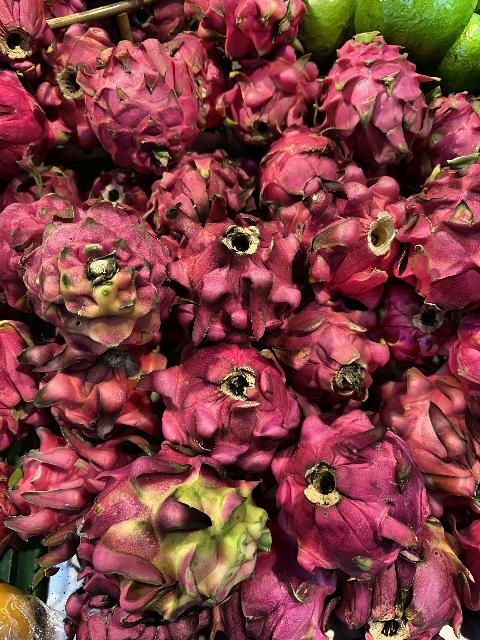buah-naga-belum-matang: (71, 451, 275, 599), (5, 196, 170, 340), (386, 371, 480, 525), (335, 534, 463, 640), (142, 157, 256, 229)
buah-naga-matang: (266, 422, 424, 560), (153, 208, 299, 352), (20, 327, 162, 449), (67, 38, 209, 156), (280, 178, 410, 306), (158, 357, 292, 461), (326, 33, 428, 169), (276, 292, 390, 408), (0, 438, 116, 542), (400, 169, 480, 315), (218, 48, 316, 138), (194, 0, 313, 58)
